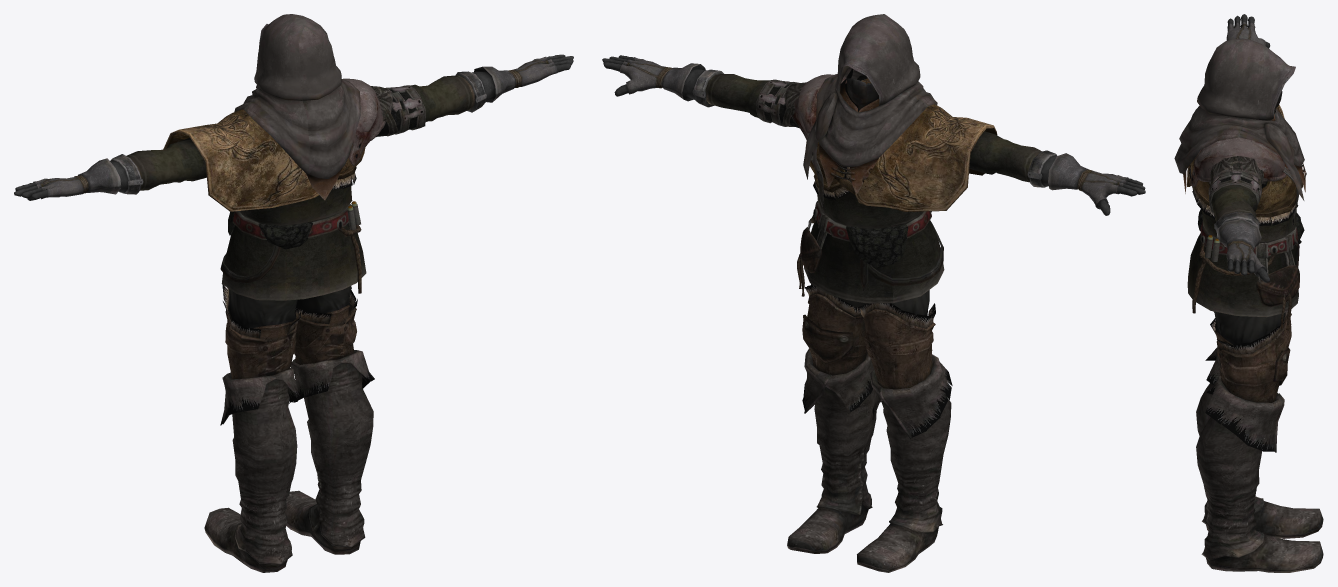
The model's file is orc_leather.fbx.
3 views of the same model, side by side, from view 1: azimuth 30°, elevation 25°; view 2: azimuth 150°, elevation 25°; view 3: azimuth 270°, elevation 25° (orthographic). The views are drawn at different scales.
Visible parts, largest first — view 1: mesh011, mesh010, mesh75, mesh13, mesh72, mesh70, mesh71, mesh69, mesh76, mesh74; view 2: mesh011, mesh010, mesh75, mesh13, mesh72, mesh71, mesh70, mesh69, mesh76, mesh74; view 3: mesh011, mesh010, mesh72, mesh13, mesh71, mesh76, mesh74, mesh69, mesh75, mesh70, mesh73.
Boxes of the visible parts, <box> form: mesh011: <box>204,284,374,572</box>; mesh010: <box>234,14,360,200</box>; mesh75: <box>163,109,367,211</box>; mesh13: <box>126,75,474,225</box>; mesh72: <box>221,223,366,300</box>; mesh70: <box>78,66,515,194</box>; mesh71: <box>228,85,425,293</box>; mesh69: <box>14,54,573,200</box>; mesh76: <box>220,132,370,282</box>; mesh74: <box>342,78,385,140</box>; mesh011: <box>787,284,952,572</box>; mesh010: <box>803,14,937,193</box>; mesh75: <box>805,104,997,211</box>; mesh13: <box>705,74,1041,228</box>; mesh72: <box>804,219,944,303</box>; mesh71: <box>756,79,931,296</box>; mesh70: <box>662,63,1088,190</box>; mesh69: <box>602,55,1145,215</box>; mesh76: <box>799,133,943,290</box>; mesh74: <box>791,74,846,139</box>; mesh011: <box>1196,310,1323,572</box>; mesh010: <box>1174,38,1306,200</box>; mesh72: <box>1187,233,1298,317</box>; mesh13: <box>1189,156,1296,242</box>; mesh71: <box>1192,171,1304,330</box>; mesh76: <box>1190,159,1299,307</box>; mesh74: <box>1195,137,1288,181</box>; mesh69: <box>1226,14,1270,282</box>; mesh75: <box>1187,105,1302,217</box>; mesh70: <box>1214,211,1261,249</box>; mesh73: <box>1189,164,1298,225</box>.
Size of the model in its own units: 7.07 by 6.44 by 1.72.
